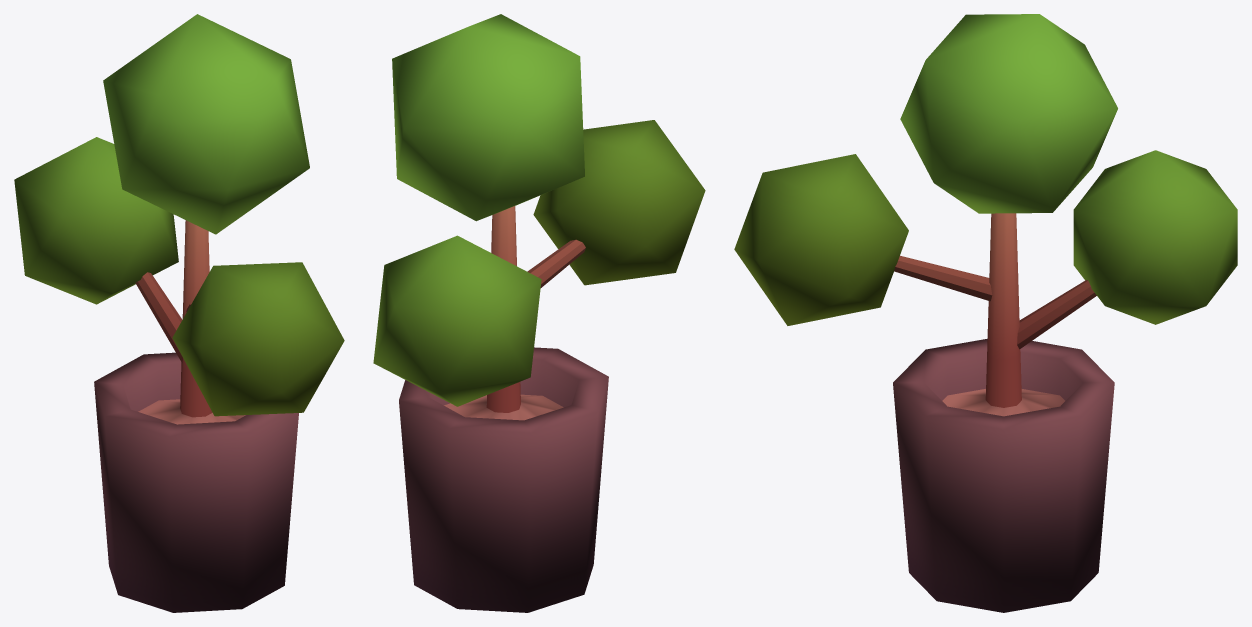
Rendered from plant.glb.
3 renders of one model, left to right at view 1: azimuth 30°, elevation 25°; view 2: azimuth 150°, elevation 25°; view 3: azimuth 270°, elevation 25°, orthographic. The views are drawn at different scales.
Visible parts, largest first — view 1: Cylinder; view 2: Cylinder; view 3: Cylinder.
Part boxes in pixels (x1,y1,x2,y2): Cylinder: [14, 14, 344, 612]; Cylinder: [373, 14, 705, 612]; Cylinder: [734, 14, 1237, 612].
Size of the model in its own units: 2.18 by 5.65 by 4.54.
1 material, 1 textured.
